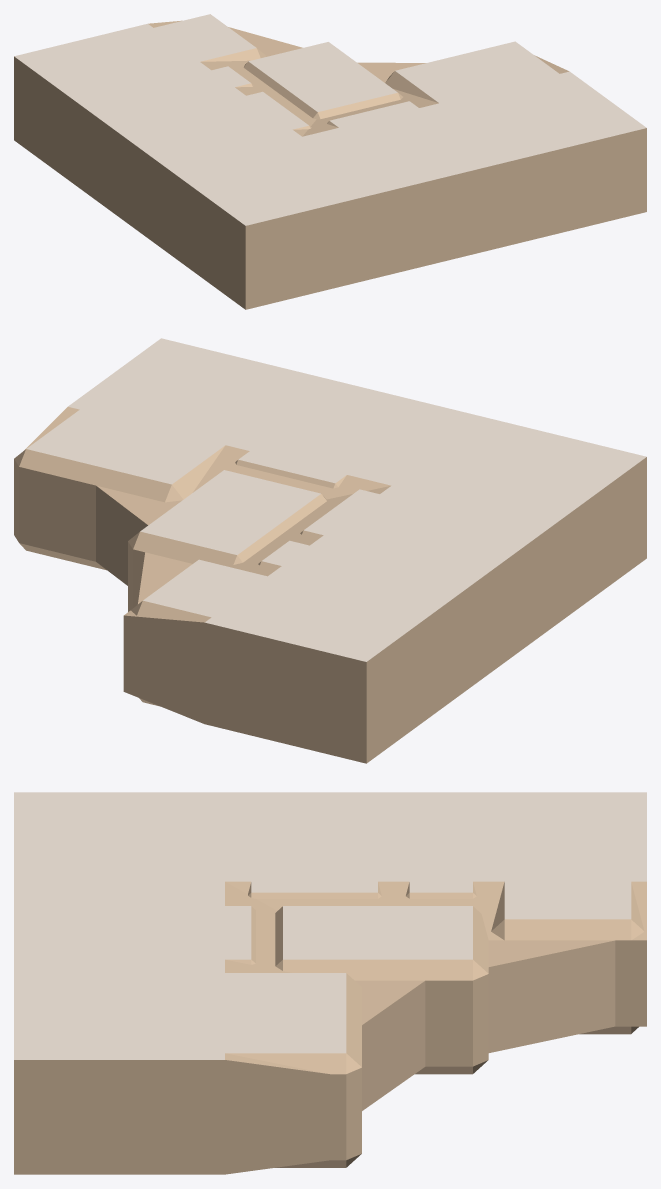
File: Floor_Ruined_Corner_Inner_1.fbx
3 renders of one model, top to bottom at view 1: azimuth 30°, elevation 25°; view 2: azimuth 150°, elevation 25°; view 3: azimuth 270°, elevation 25°, orthographic. The views are drawn at different scales.
Parts seen in each view (by area): view 1: Sandstone_Floor.Sandstone_Floor, Sandstone_Trim.Sandstone_Trim.object1; view 2: Sandstone_Floor.Sandstone_Floor, Sandstone_Trim.Sandstone_Trim.object1; view 3: Sandstone_Floor.Sandstone_Floor, Sandstone_Trim.Sandstone_Trim.object1.
Part boxes in pixels (x1,y1,x2,y2): Sandstone_Floor.Sandstone_Floor: (14,14,646,225); Sandstone_Trim.Sandstone_Trim.object1: (14,20,646,309); Sandstone_Floor.Sandstone_Floor: (26,338,646,661); Sandstone_Trim.Sandstone_Trim.object1: (14,407,646,763); Sandstone_Floor.Sandstone_Floor: (14,792,646,1059); Sandstone_Trim.Sandstone_Trim.object1: (14,881,646,1174).
Size of the model in its own units: 1 by 0.2 by 1.
